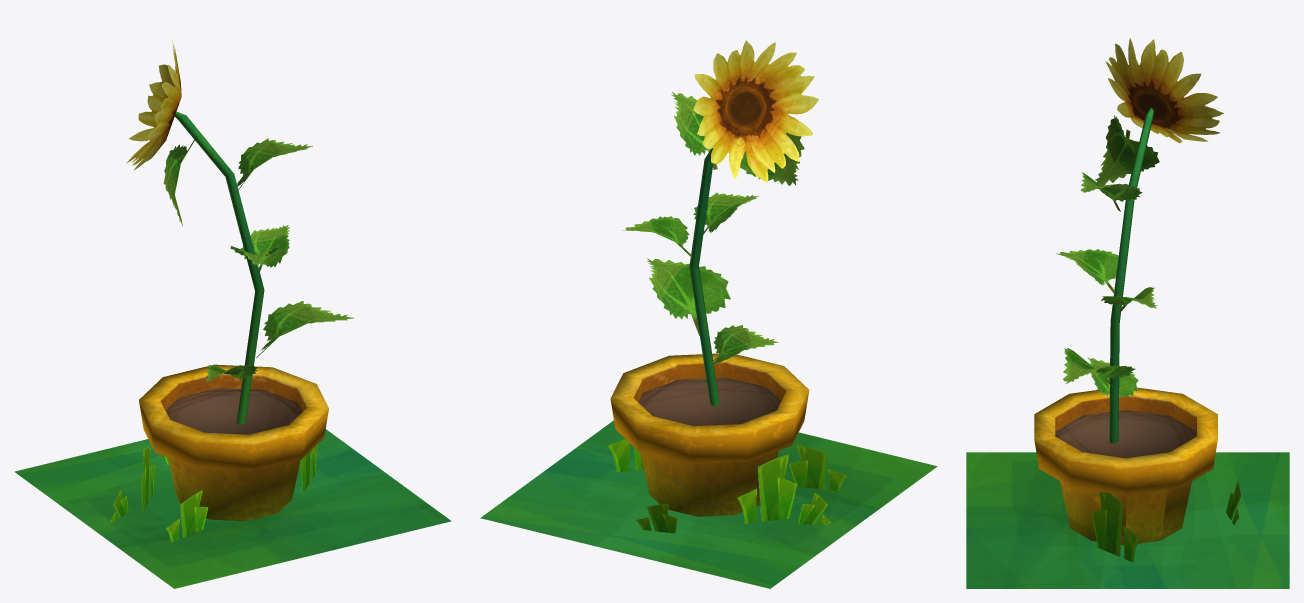
File: girasol4.obj
3 views of the same model, side by side, from view 1: azimuth 30°, elevation 25°; view 2: azimuth 150°, elevation 25°; view 3: azimuth 270°, elevation 25° (orthographic). The views are drawn at different scales.
Visible parts, largest first — view 1: Stylizedplants_model.001; view 2: Stylizedplants_model.001; view 3: Stylizedplants_model.001.
Boxes of the visible parts, left/top/right/bottom form: Stylizedplants_model.001: left=14, top=39, right=451, bottom=588; Stylizedplants_model.001: left=480, top=40, right=937, bottom=588; Stylizedplants_model.001: left=966, top=38, right=1289, bottom=588.
Bounding box in the file's own units: 45.19 × 74.22 × 45.19.
1 material, 1 textured.
